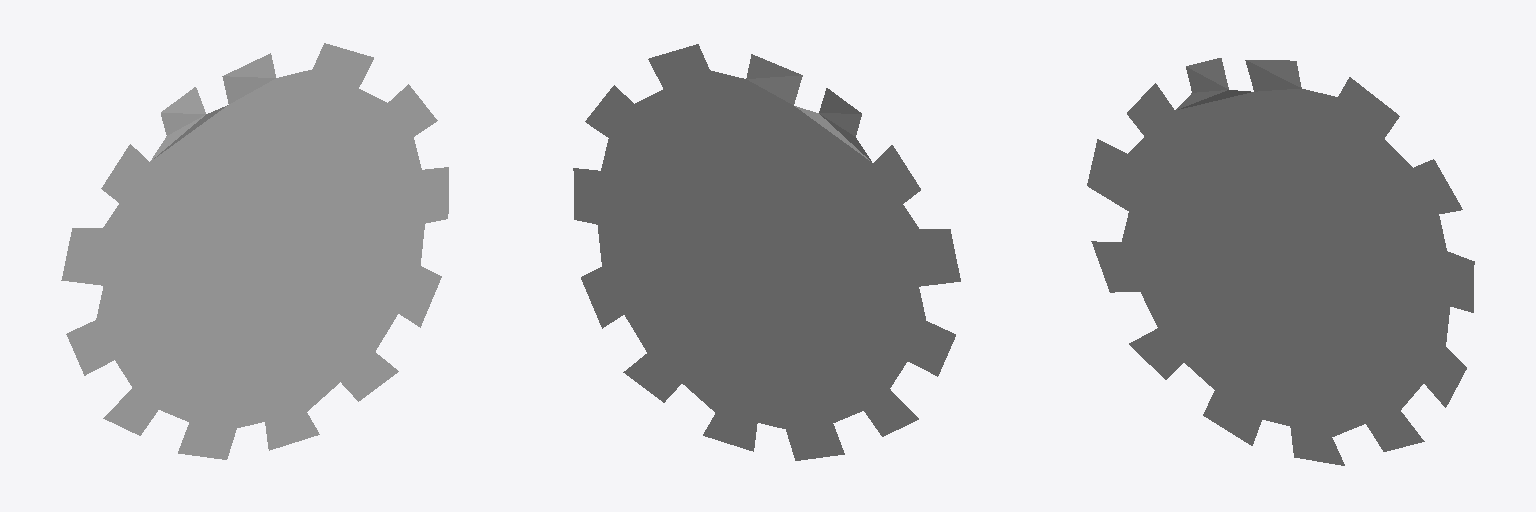
File: cog1.obj
3 views of the same model, side by side, from view 1: azimuth 30°, elevation 25°; view 2: azimuth 150°, elevation 25°; view 3: azimuth 330°, elevation 25° (orthographic).
Visible parts, largest first — view 1: Cylinder; view 2: Cylinder; view 3: Cylinder.
Boxes of the visible parts, x1,y1,x2,y2 form: Cylinder: [61, 43, 448, 459]; Cylinder: [573, 44, 960, 460]; Cylinder: [1087, 58, 1474, 465].
Size of the model in its own units: 0.7713 by 0.7553 by 0.0046.